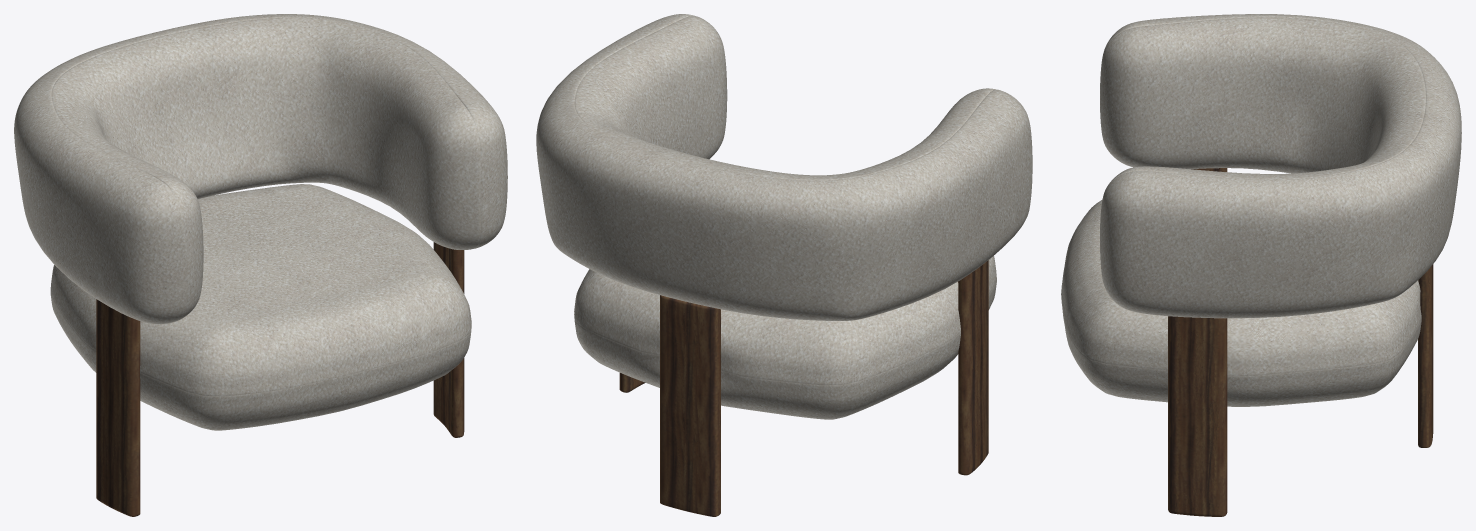
File: armchair.glb
3 views of the same model, side by side, from view 1: azimuth 30°, elevation 25°; view 2: azimuth 150°, elevation 25°; view 3: azimuth 270°, elevation 25° (orthographic). The views are drawn at different scales.
Visible parts, largest first — view 1: Armchair; view 2: Armchair; view 3: Armchair.
Part boxes in pixels (<box>): Armchair: <box>14,14,507,516</box>; Armchair: <box>536,14,1032,516</box>; Armchair: <box>1061,14,1461,516</box>.
Size of the model in its own units: 0.8204 by 0.676 by 0.7277.
1 material, 1 textured.
